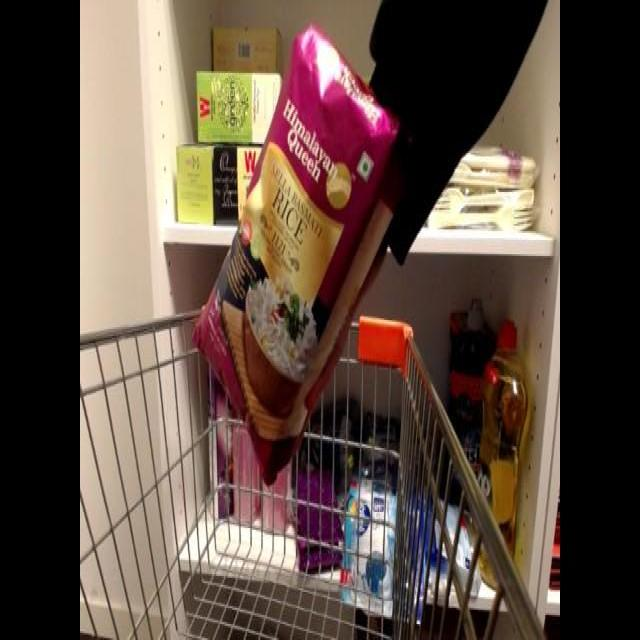Basmati Rice: (188, 22, 406, 483)
